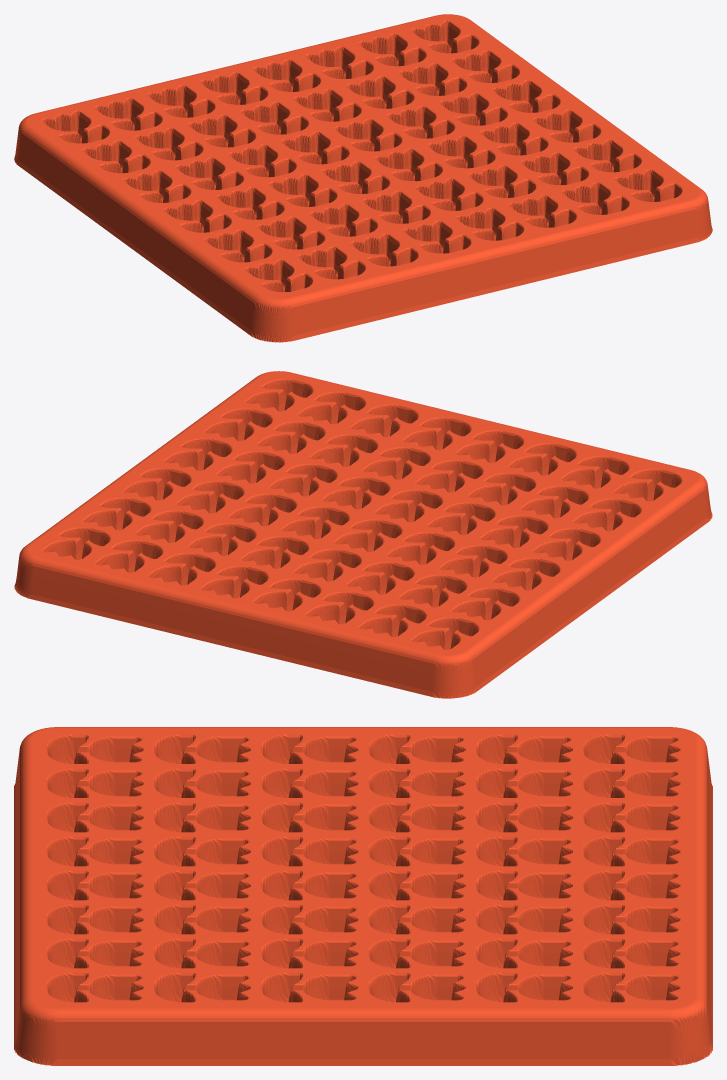
The model's file is mold.glb.
The picture shows the model from 3 angles, top to bottom: view 1: azimuth 30°, elevation 25°; view 2: azimuth 150°, elevation 25°; view 3: azimuth 270°, elevation 25°; orthographic projection. The views are drawn at different scales.
Visible parts, largest first — view 1: geometry_0; view 2: geometry_0; view 3: geometry_0.
Boxes of the visible parts, x1=… form: geometry_0: x1=14, y1=14, x2=712, y2=342; geometry_0: x1=14, y1=371, x2=712, y2=698; geometry_0: x1=14, y1=727, x2=712, y2=1065.
Bounding box in the file's own units: 0.1443 × 0.0114 × 0.1443.
